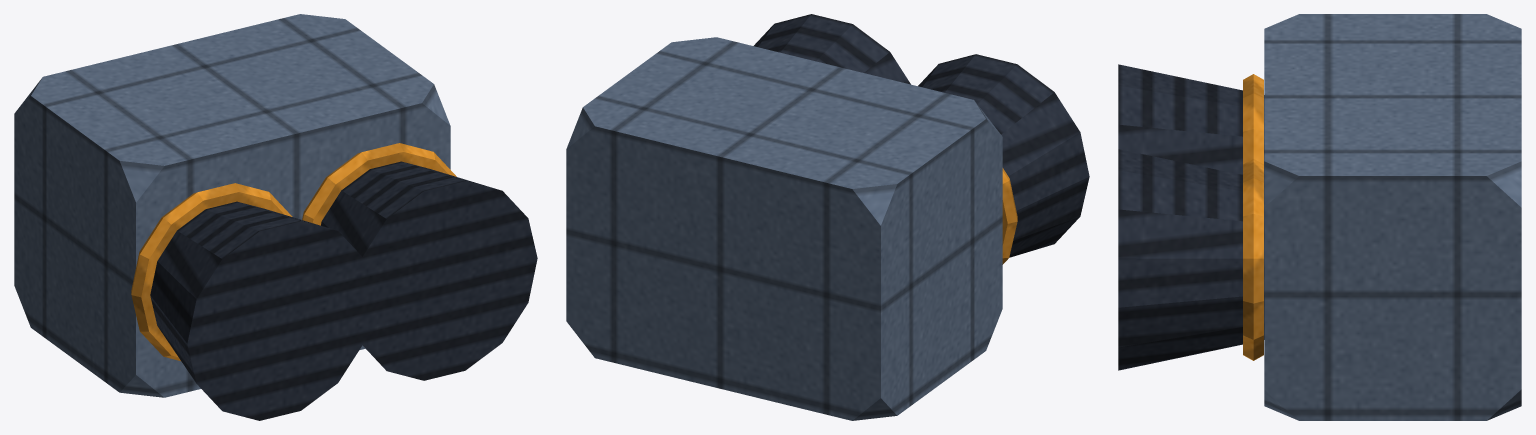
Rendered from eq_thruster_booster.glb.
3 views of the same model, side by side, from view 1: azimuth 30°, elevation 25°; view 2: azimuth 150°, elevation 25°; view 3: azimuth 270°, elevation 25° (orthographic). The views are drawn at different scales.
Visible parts, largest first — view 1: eq_thruster_booster; view 2: eq_thruster_booster; view 3: eq_thruster_booster.
Boxes of the visible parts, x1,y1,x2,y2 form: eq_thruster_booster: [14, 14, 537, 420]; eq_thruster_booster: [566, 14, 1089, 420]; eq_thruster_booster: [1118, 14, 1521, 420].
Bounding box in the file's own units: 1.96 × 1.24 × 1.85.
Materials: 1 (1 with a texture image).
